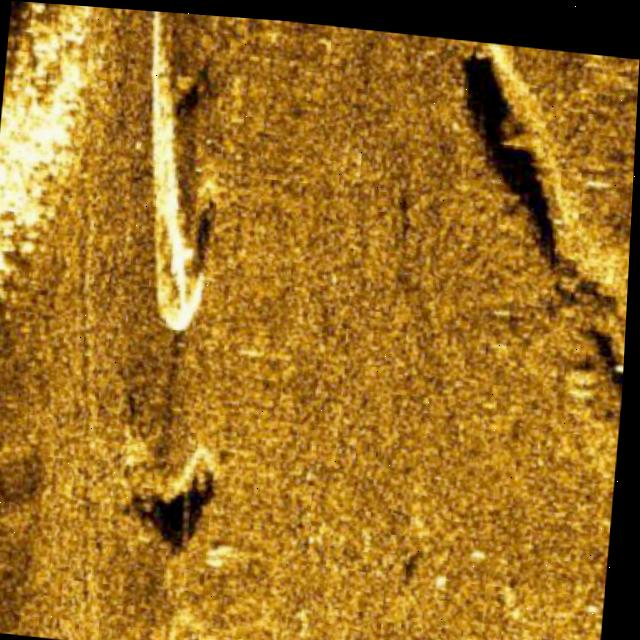bedrock group: (0, 0, 100, 302)
